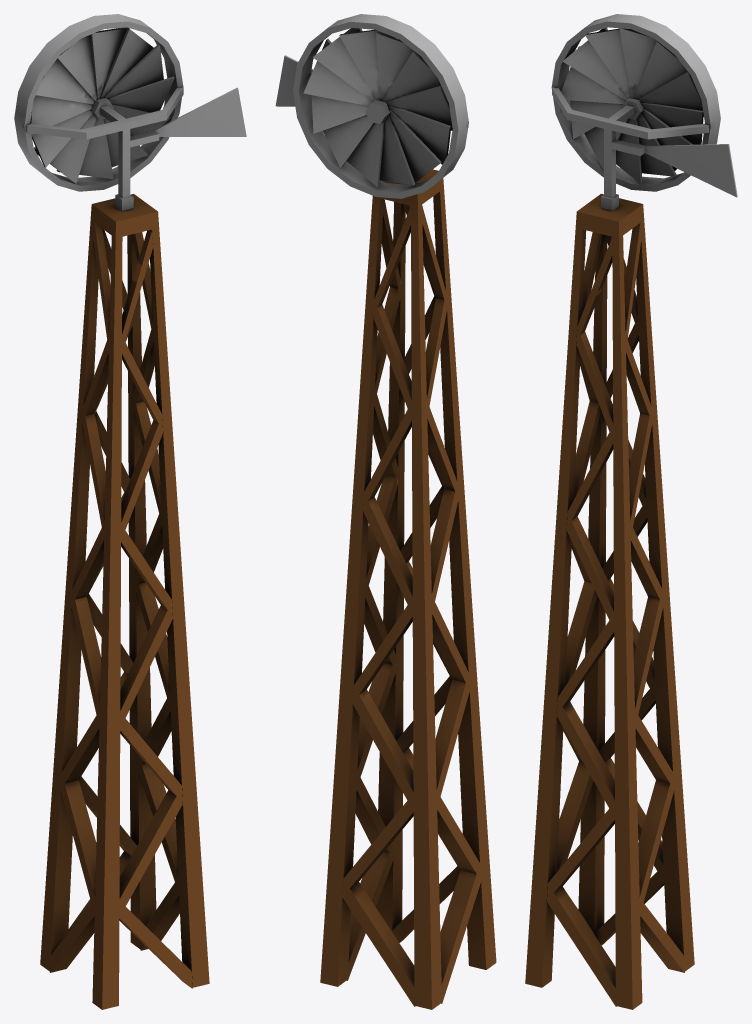
The model's file is Windmill.fbx.
The picture shows the model from 3 angles, left to right: view 1: azimuth 30°, elevation 25°; view 2: azimuth 150°, elevation 25°; view 3: azimuth 330°, elevation 25°; orthographic projection. The views are drawn at different scales.
Visible parts, largest first — view 1: WindmillStand, Fan, polySurface39, FanPart; view 2: WindmillStand, Fan, polySurface39, FanPart; view 3: WindmillStand, Fan, FanPart, polySurface39.
Boxes of the visible parts, x1,y1,x2,y2 form: WindmillStand: [40, 194, 209, 1009]; Fan: [30, 27, 174, 183]; polySurface39: [14, 14, 183, 191]; FanPart: [26, 87, 246, 211]; WindmillStand: [320, 169, 496, 1009]; Fan: [303, 28, 452, 186]; polySurface39: [293, 14, 468, 198]; FanPart: [275, 55, 468, 127]; WindmillStand: [525, 193, 694, 1009]; Fan: [561, 28, 703, 183]; FanPart: [552, 87, 737, 211]; polySurface39: [551, 14, 720, 191].
Bounding box in the file's own units: 121 × 64.44 × 531.
Materials: 1 (1 with a texture image).
